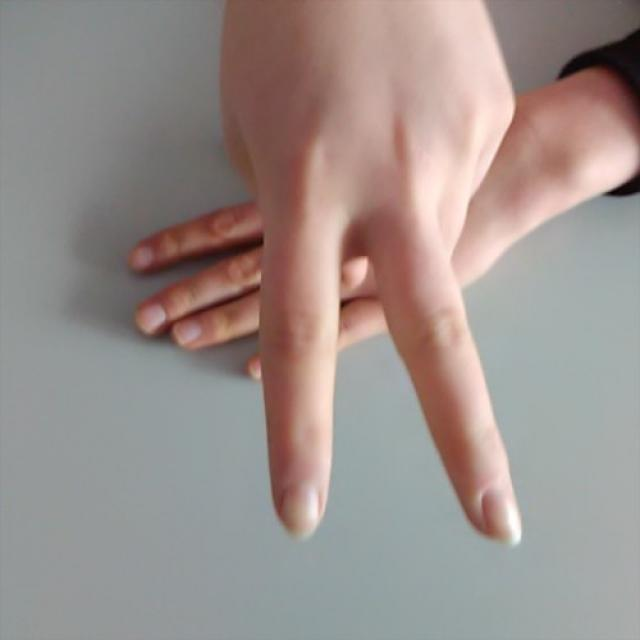scissors: (218, 27, 525, 545)
